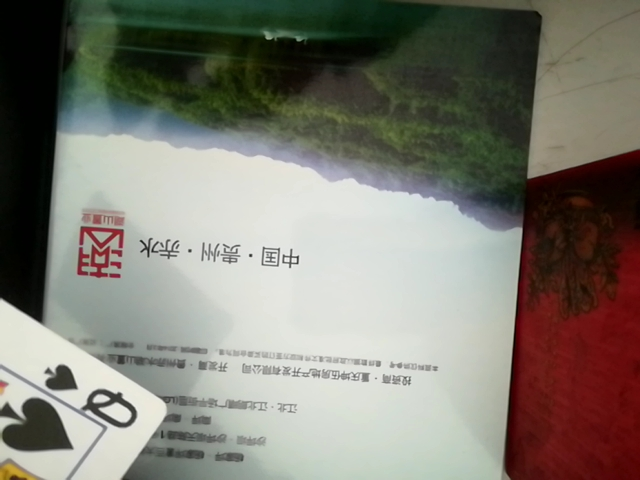ht q: (0, 197, 168, 480)
